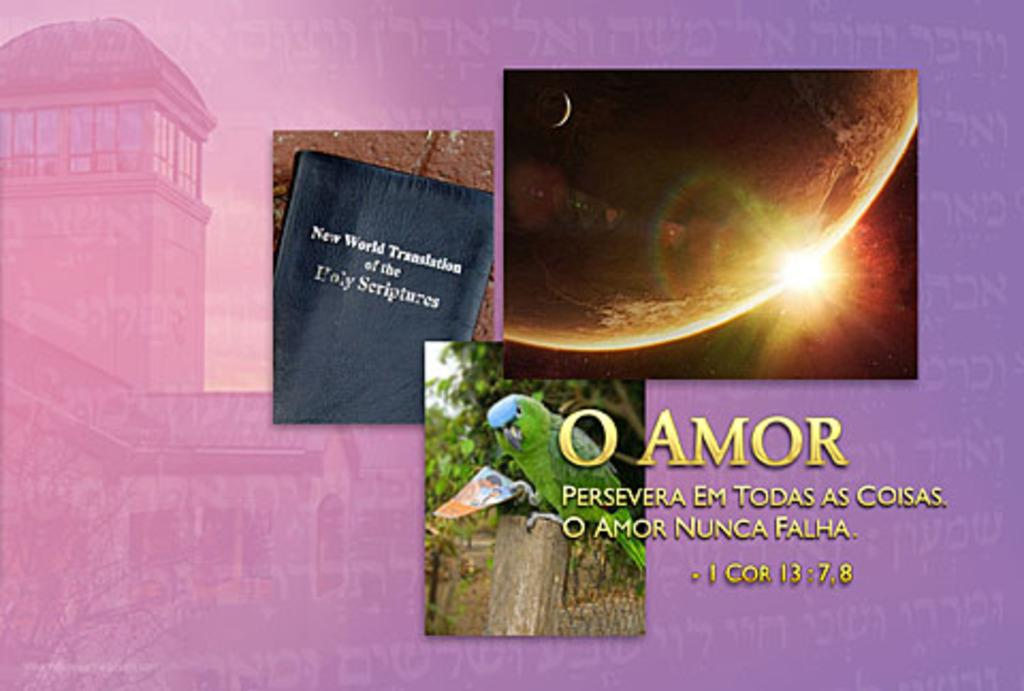book: (273, 147, 489, 422)
